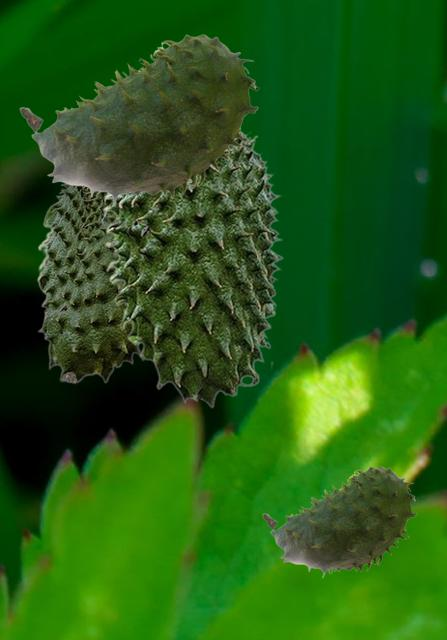guyabano: (102, 124, 283, 407), (19, 34, 258, 206), (36, 183, 141, 383), (262, 466, 416, 577)
